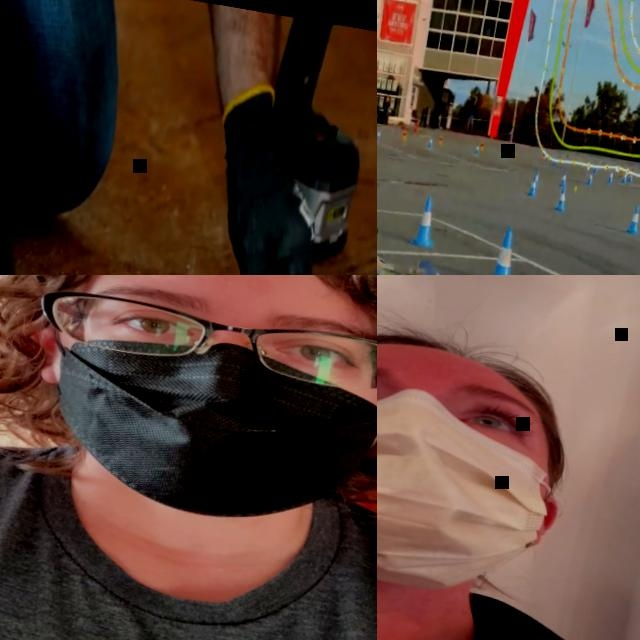Hardhat: (377, 311, 570, 416)
Mask: (22, 317, 377, 544), (377, 364, 570, 607)
NO-Hardhat: (42, 275, 377, 329)
NO-Safety Vest: (0, 425, 377, 640), (377, 540, 640, 640)
Person: (0, 275, 377, 640), (0, 0, 360, 275), (377, 276, 640, 640)
Safety Cone: (482, 222, 527, 275), (411, 193, 442, 250), (624, 203, 640, 238), (554, 186, 568, 211), (526, 176, 538, 199), (530, 168, 542, 189), (557, 170, 568, 190), (426, 136, 433, 150), (586, 172, 592, 186), (606, 171, 613, 183), (620, 172, 627, 184), (627, 172, 634, 184), (400, 130, 406, 142), (437, 135, 443, 147), (478, 141, 484, 152), (510, 146, 515, 158), (377, 128, 381, 142), (474, 143, 479, 154), (502, 148, 507, 158)
vehicle: (377, 177, 640, 275)
